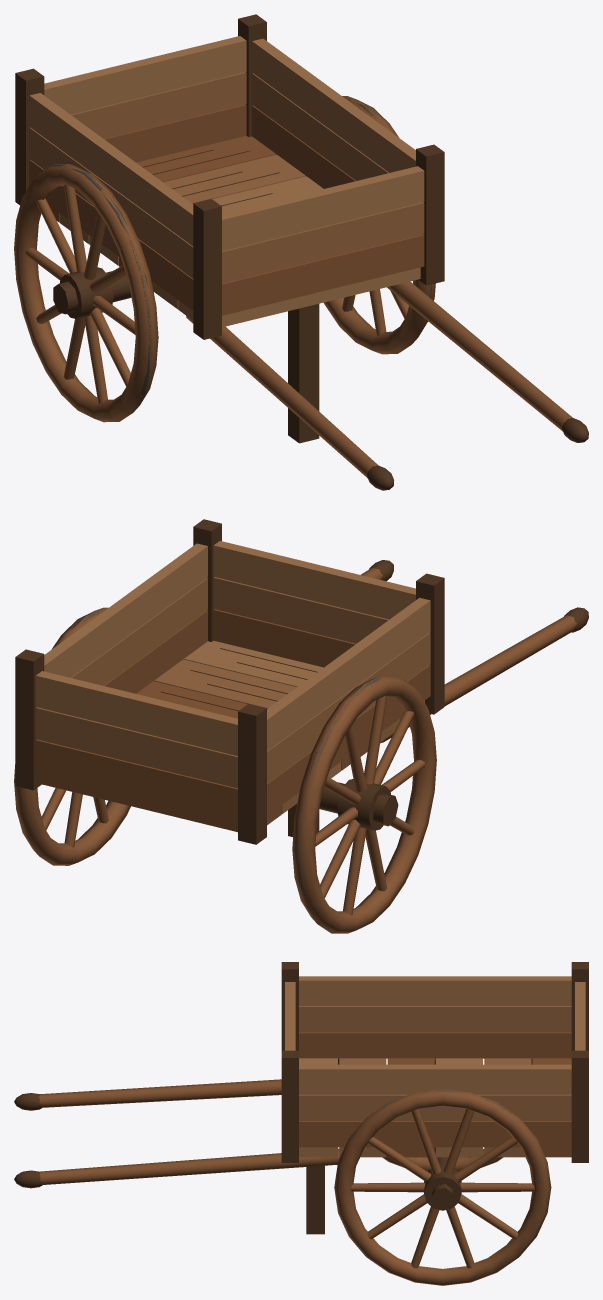
The model's file is LV_XE_KEO_GO_01.glb.
3 renders of one model, top to bottom at view 1: azimuth 30°, elevation 25°; view 2: azimuth 150°, elevation 25°; view 3: azimuth 270°, elevation 25°, orthographic. The views are drawn at different scales.
Parts seen in each view (by area): view 1: LV_XE_KEO_GO_01-surface-825331, LV_XE_KEO_GO_01-surface-9d7048, LV_XE_KEO_GO_01-surface-936540, LV_XE_KEO_GO_01-surface-50351f, LV_XE_KEO_GO_01-surface-514b40; view 2: LV_XE_KEO_GO_01-surface-825331, LV_XE_KEO_GO_01-surface-9d7048, LV_XE_KEO_GO_01-surface-936540, LV_XE_KEO_GO_01-surface-50351f, LV_XE_KEO_GO_01-surface-514b40; view 3: LV_XE_KEO_GO_01-surface-825331, LV_XE_KEO_GO_01-surface-9d7048, LV_XE_KEO_GO_01-surface-936540, LV_XE_KEO_GO_01-surface-50351f.
Part boxes in pixels (x1,y1,x2,y2): LV_XE_KEO_GO_01-surface-825331: (14, 96, 572, 478); LV_XE_KEO_GO_01-surface-9d7048: (29, 36, 424, 327); LV_XE_KEO_GO_01-surface-936540: (29, 72, 424, 309); LV_XE_KEO_GO_01-surface-50351f: (15, 14, 588, 490); LV_XE_KEO_GO_01-surface-514b40: (38, 97, 431, 421); LV_XE_KEO_GO_01-surface-825331: (14, 568, 576, 933); LV_XE_KEO_GO_01-surface-9d7048: (35, 541, 430, 778); LV_XE_KEO_GO_01-surface-936540: (35, 577, 430, 813); LV_XE_KEO_GO_01-surface-50351f: (15, 519, 588, 844); LV_XE_KEO_GO_01-surface-514b40: (18, 608, 390, 933); LV_XE_KEO_GO_01-surface-825331: (39, 1032, 571, 1285); LV_XE_KEO_GO_01-surface-9d7048: (285, 976, 585, 1157); LV_XE_KEO_GO_01-surface-936540: (299, 1006, 571, 1157); LV_XE_KEO_GO_01-surface-50351f: (14, 962, 588, 1234).
Size of the model in its own units: 1.66 by 1.3 by 3.07.
